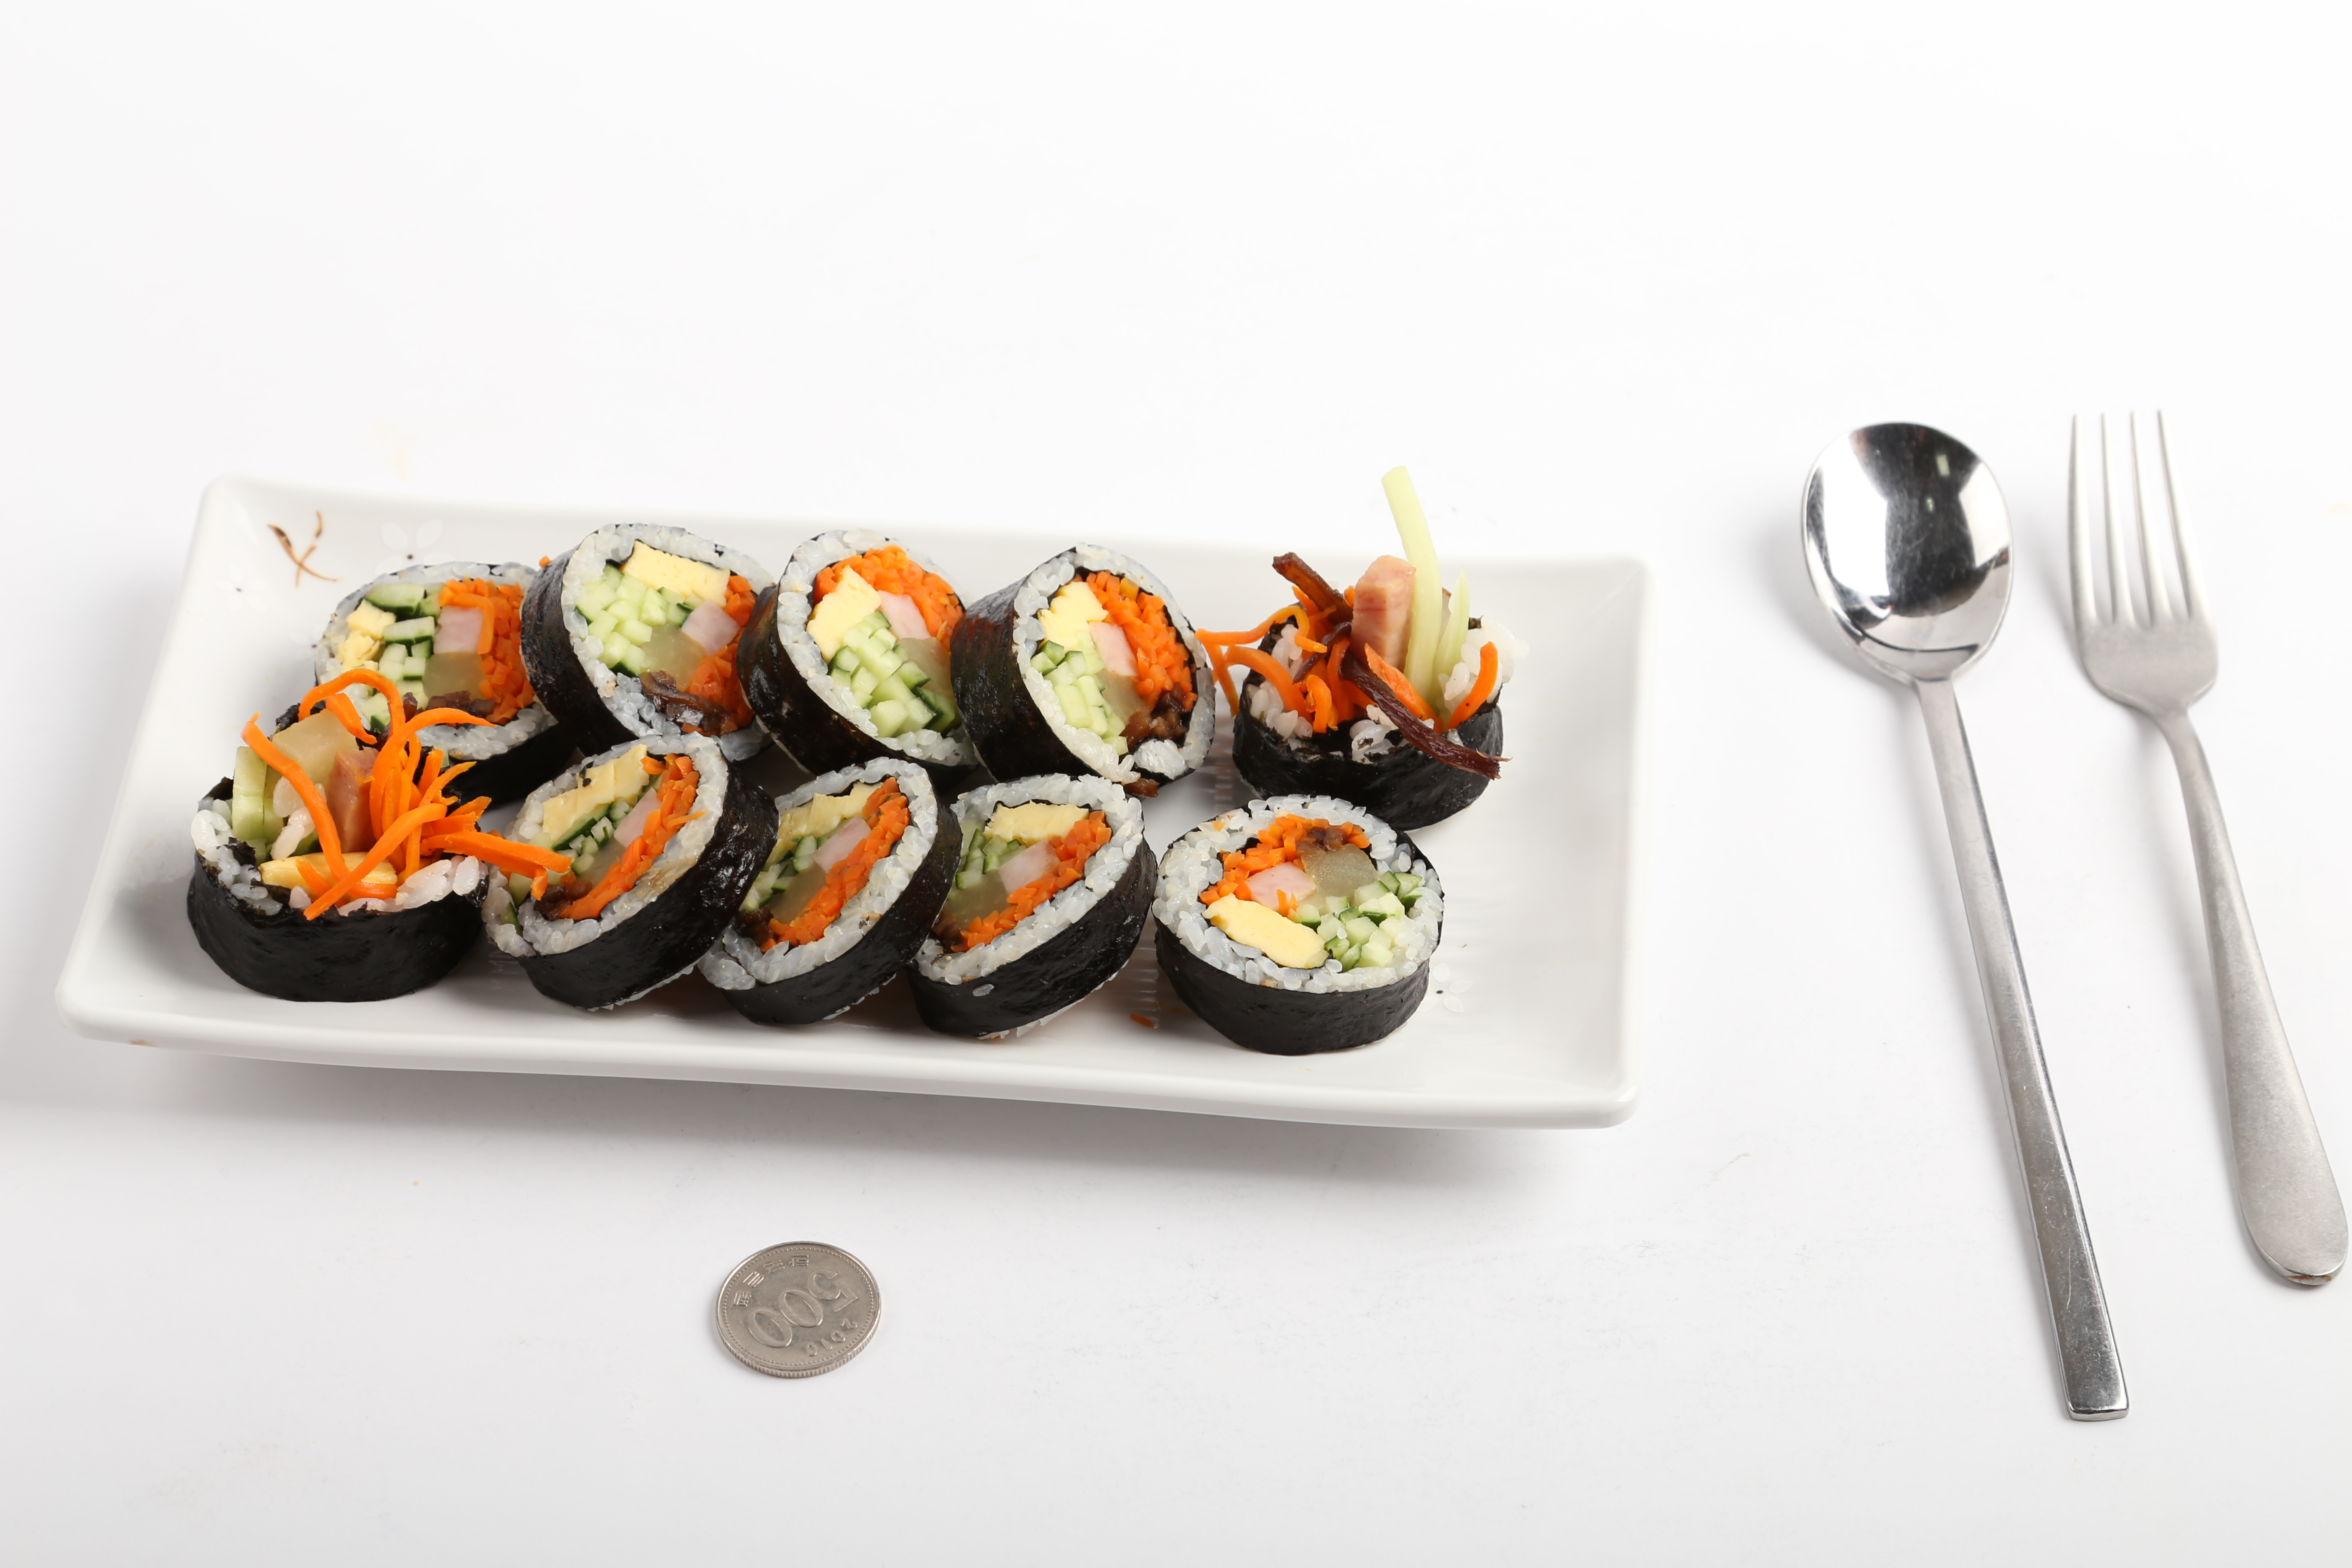dish: (56, 474, 1645, 1130)
ref_coin: (709, 1237, 882, 1386)
ref_fork: (2061, 411, 2222, 759)
ref_spoon: (1795, 418, 2019, 731)
김밥: (180, 525, 1503, 1057)
